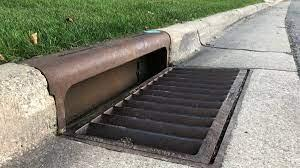open drainage-not overflowing-: (74, 67, 250, 163)
